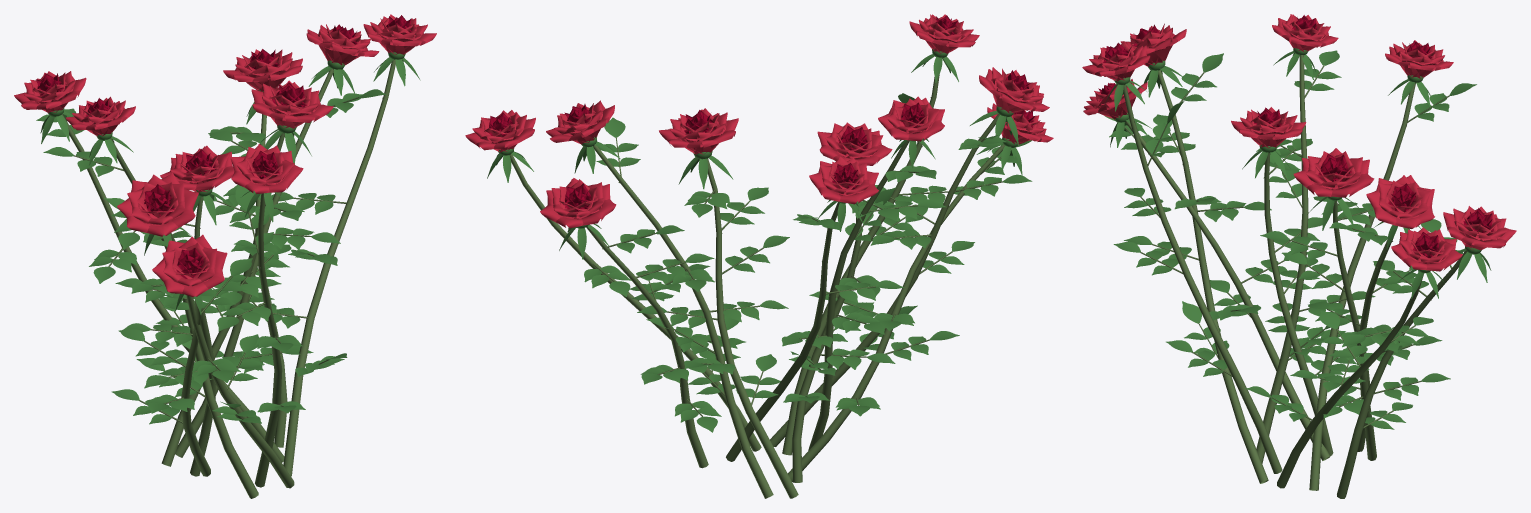
The model's file is G_RoseBush.fbx.
3 views of the same model, side by side, from view 1: azimuth 30°, elevation 25°; view 2: azimuth 150°, elevation 25°; view 3: azimuth 270°, elevation 25° (orthographic). The views are drawn at different scales.
Visible parts, largest first — view 1: G_RoseBush; view 2: G_RoseBush; view 3: G_RoseBush.
Boxes of the visible parts, left/top/right/bottom form: G_RoseBush: left=14, top=14, right=436, bottom=498; G_RoseBush: left=465, top=14, right=1053, bottom=498; G_RoseBush: left=1082, top=14, right=1516, bottom=498.
Size of the model in its own units: 1.1 by 0.9696 by 0.9704.
